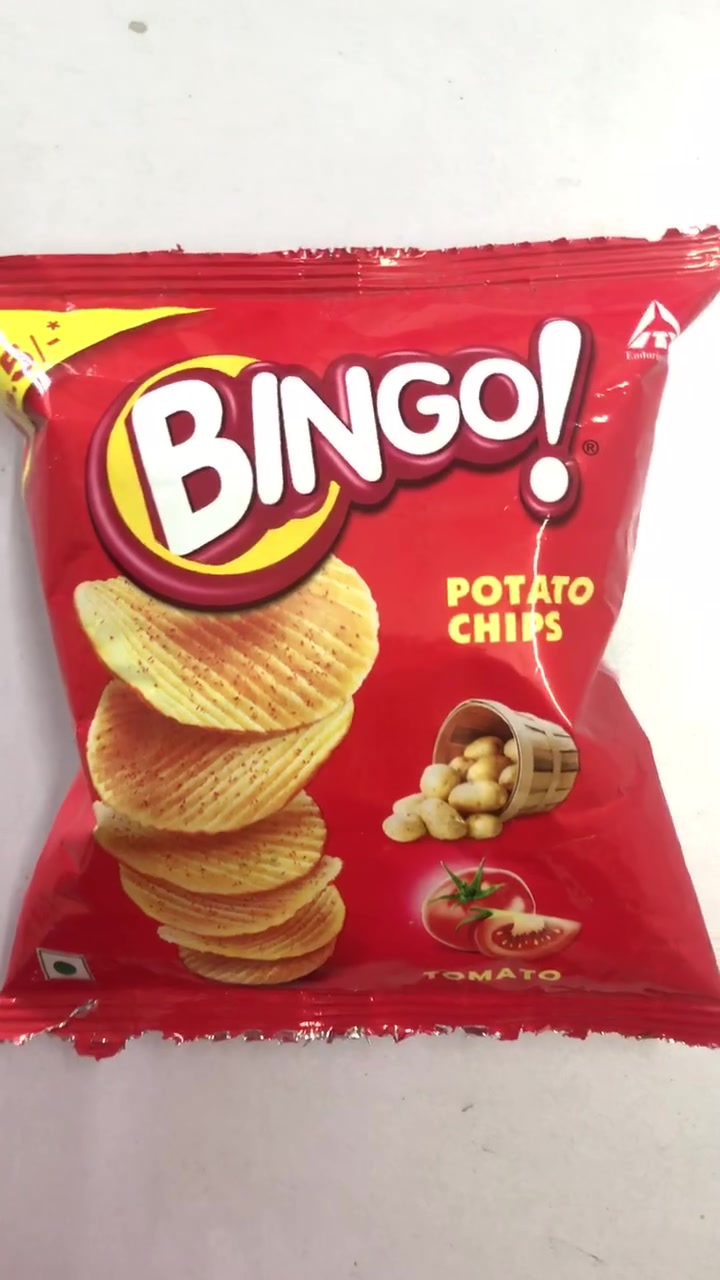Bingo: (8, 255, 720, 1043)
